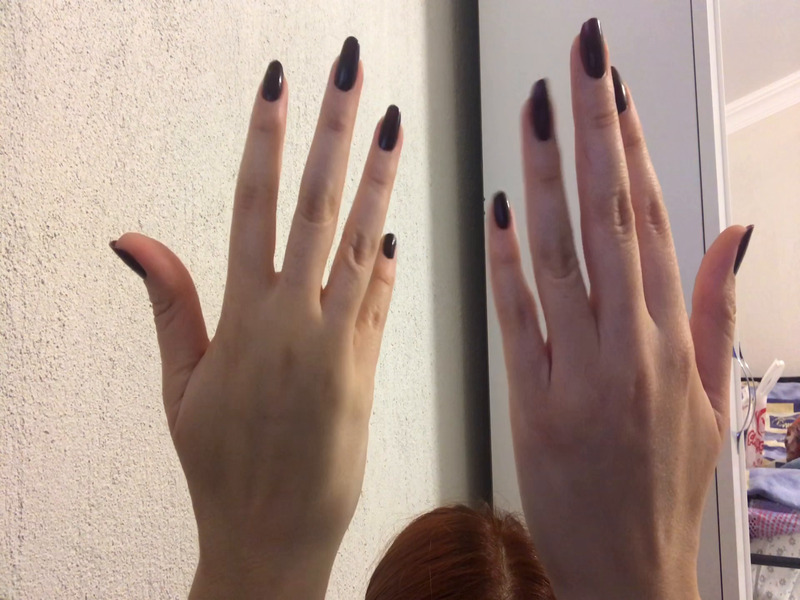hand: (109, 34, 412, 524), (481, 25, 752, 557)
